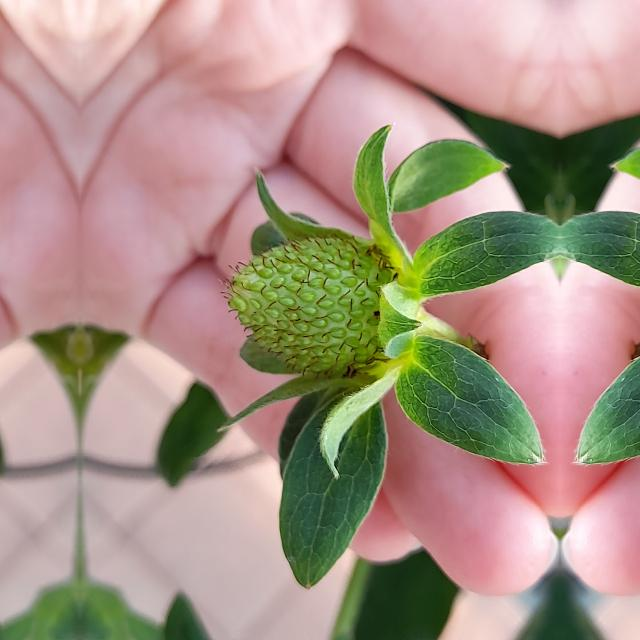Health_25: (218, 232, 398, 378)
